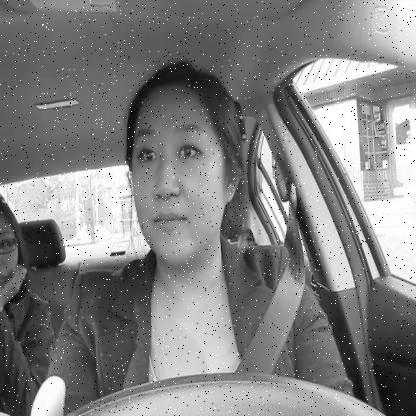seatbelt: (112, 43, 314, 377)
